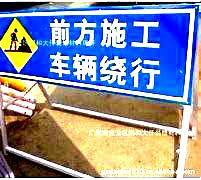sign: (1, 14, 188, 100)
